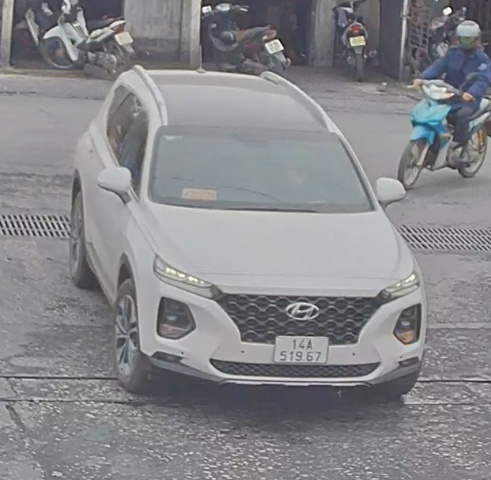vehicle plate: (273, 333, 332, 367)
